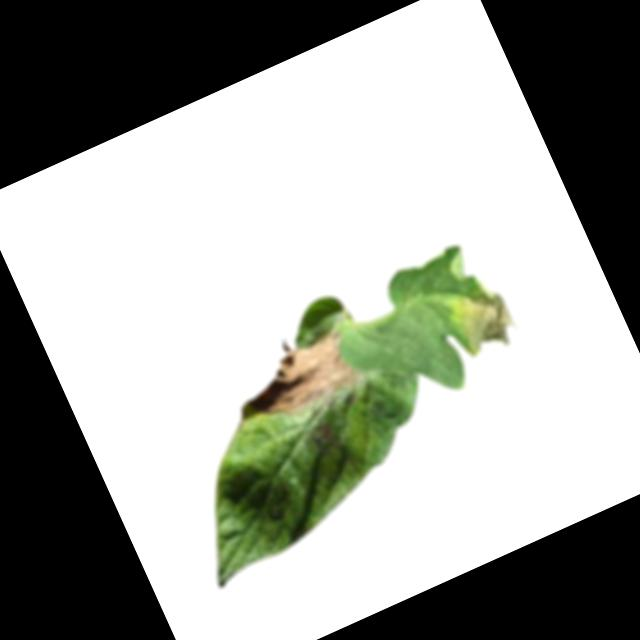Late_blight: (235, 325, 367, 429), (445, 279, 523, 363)
